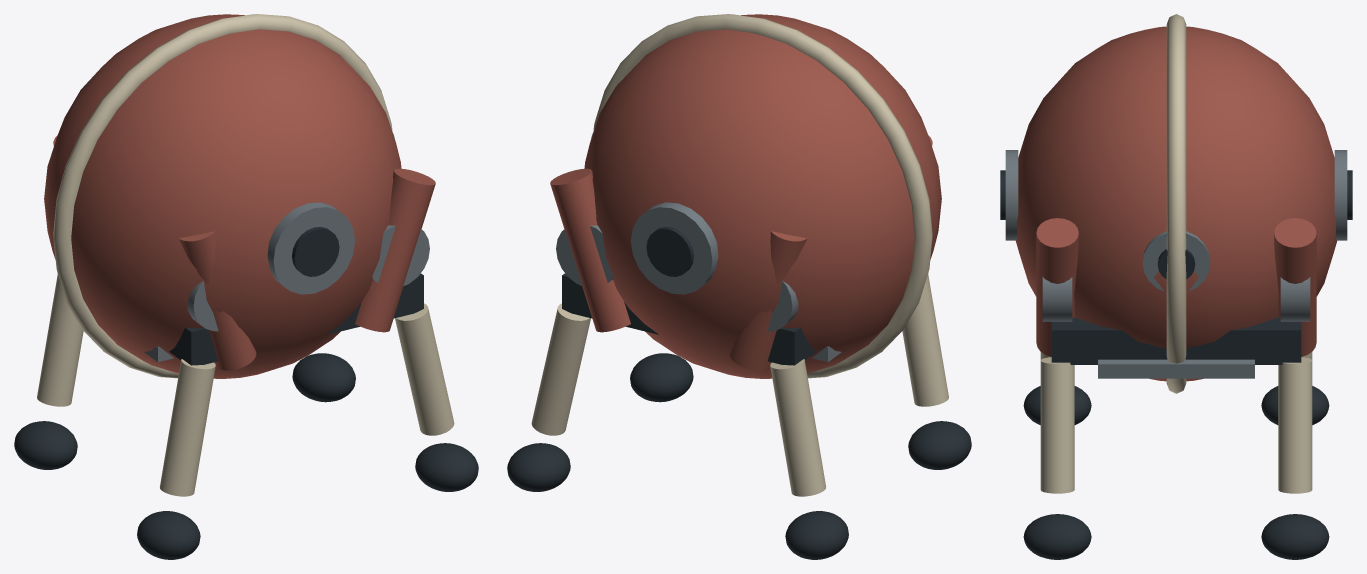
The model's file is warden-early-crawler-orbital-shell-v1.glb.
3 views of the same model, side by side, from view 1: azimuth 30°, elevation 25°; view 2: azimuth 150°, elevation 25°; view 3: azimuth 270°, elevation 25° (orthographic). The views are drawn at different scales.
Visible parts, largest first — view 1: Orbital Shell · Early Crawler Lab; view 2: Orbital Shell · Early Crawler Lab; view 3: Orbital Shell · Early Crawler Lab.
Boxes of the visible parts, box(x1,y1,x2,y2) form: Orbital Shell · Early Crawler Lab: box(14, 14, 478, 559); Orbital Shell · Early Crawler Lab: box(507, 14, 971, 559); Orbital Shell · Early Crawler Lab: box(1000, 14, 1352, 559).
Bounding box in the file's own units: 2.72 × 3.36 × 2.39.
